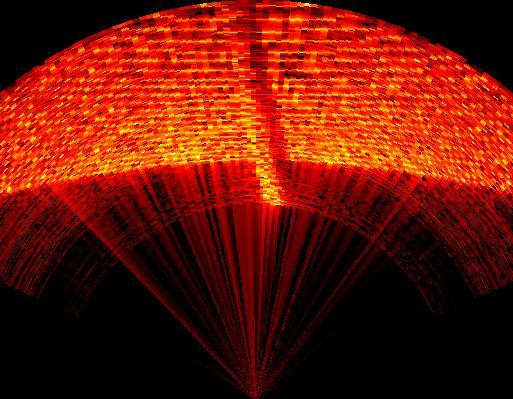pipe: (228, 0, 294, 194)
